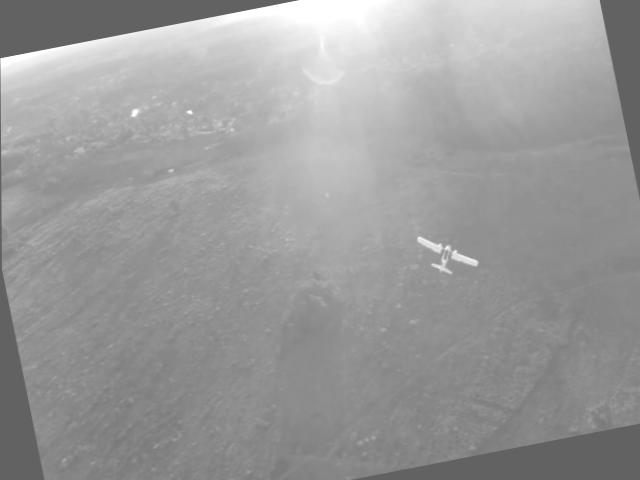hedef: (407, 208, 491, 294)
